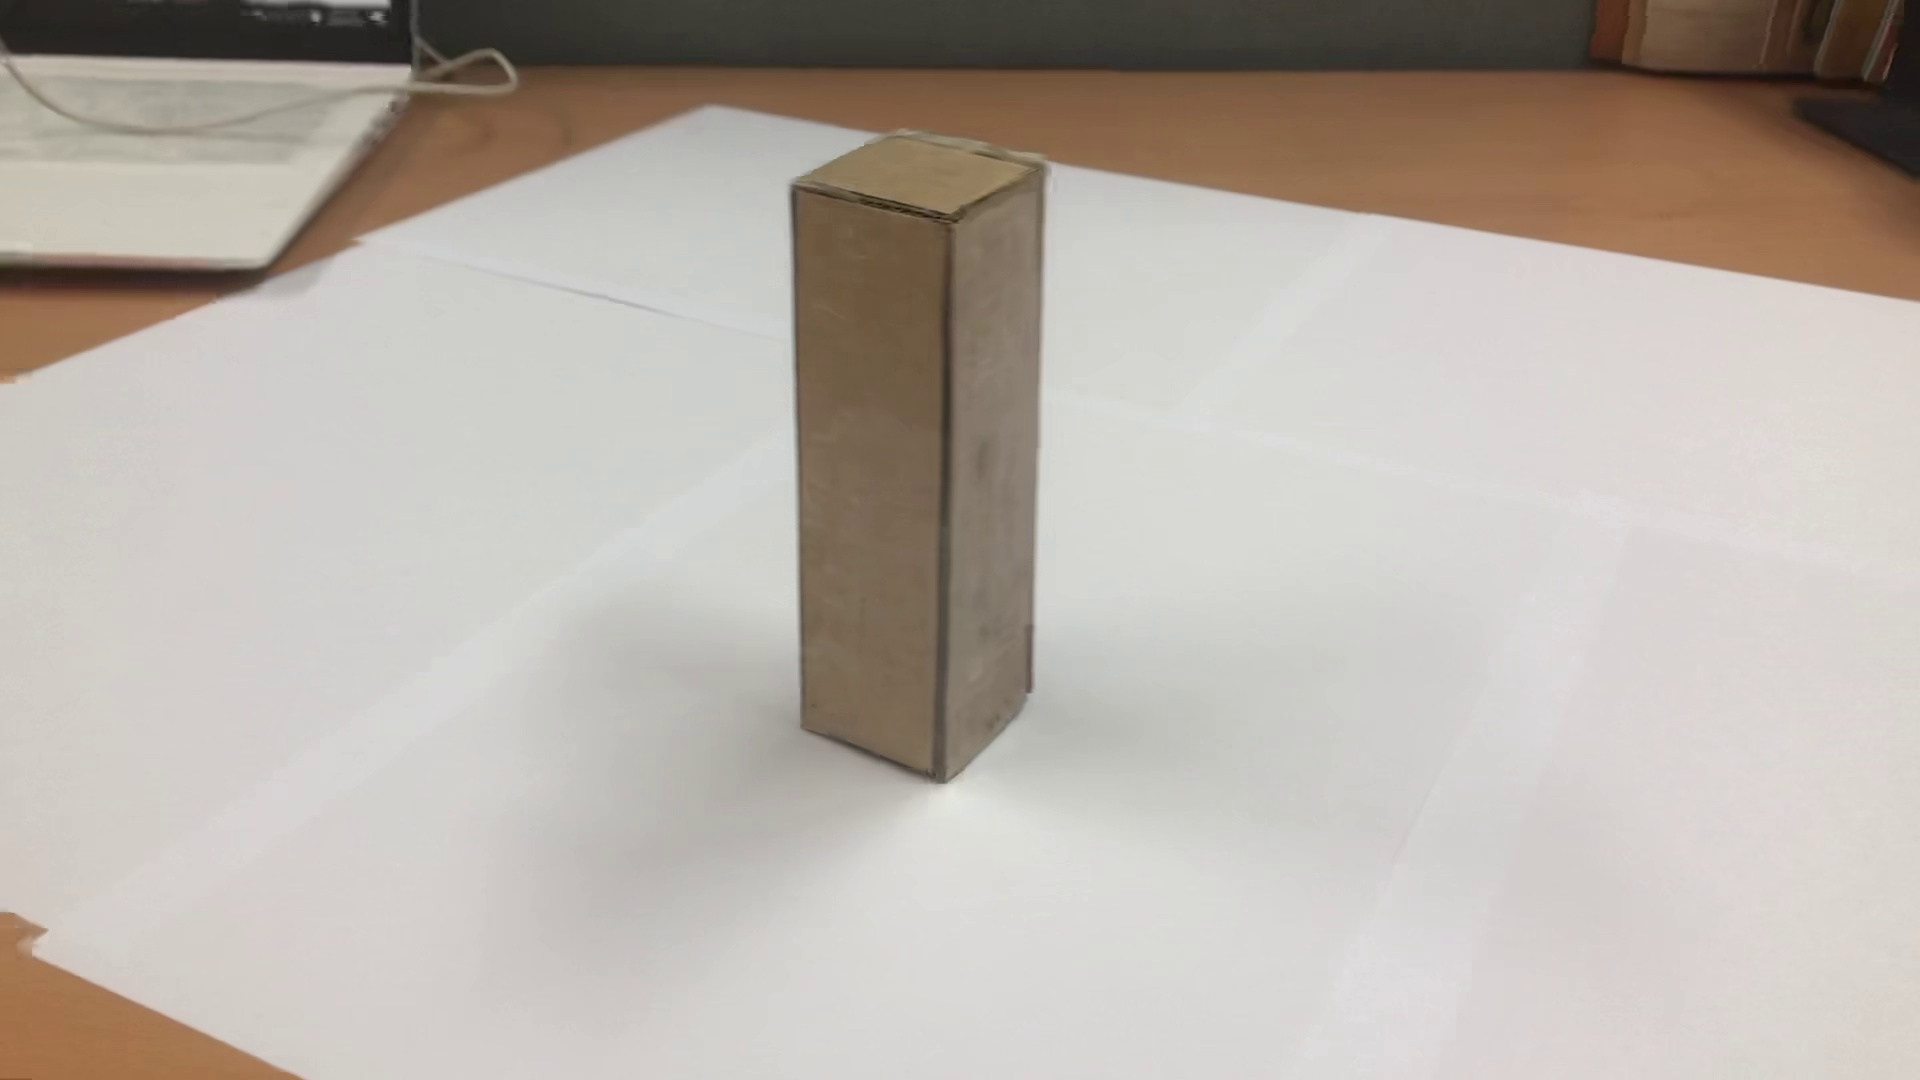box: (764, 113, 1076, 814)
